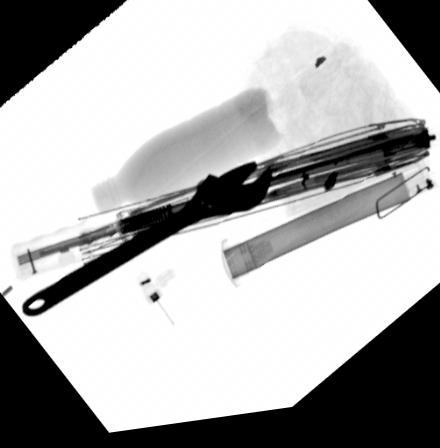Wrench: (20, 168, 272, 319)
